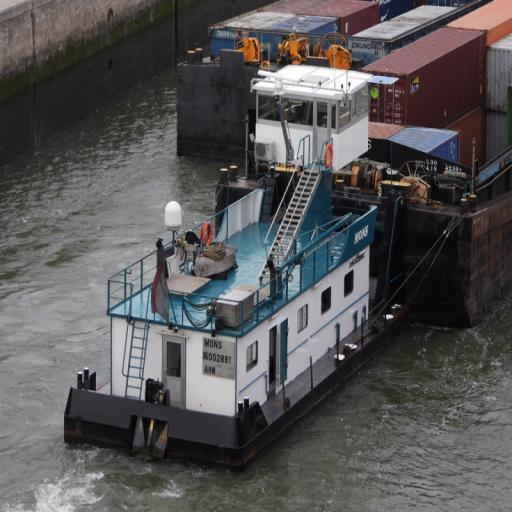tugboat: (60, 56, 413, 478)
